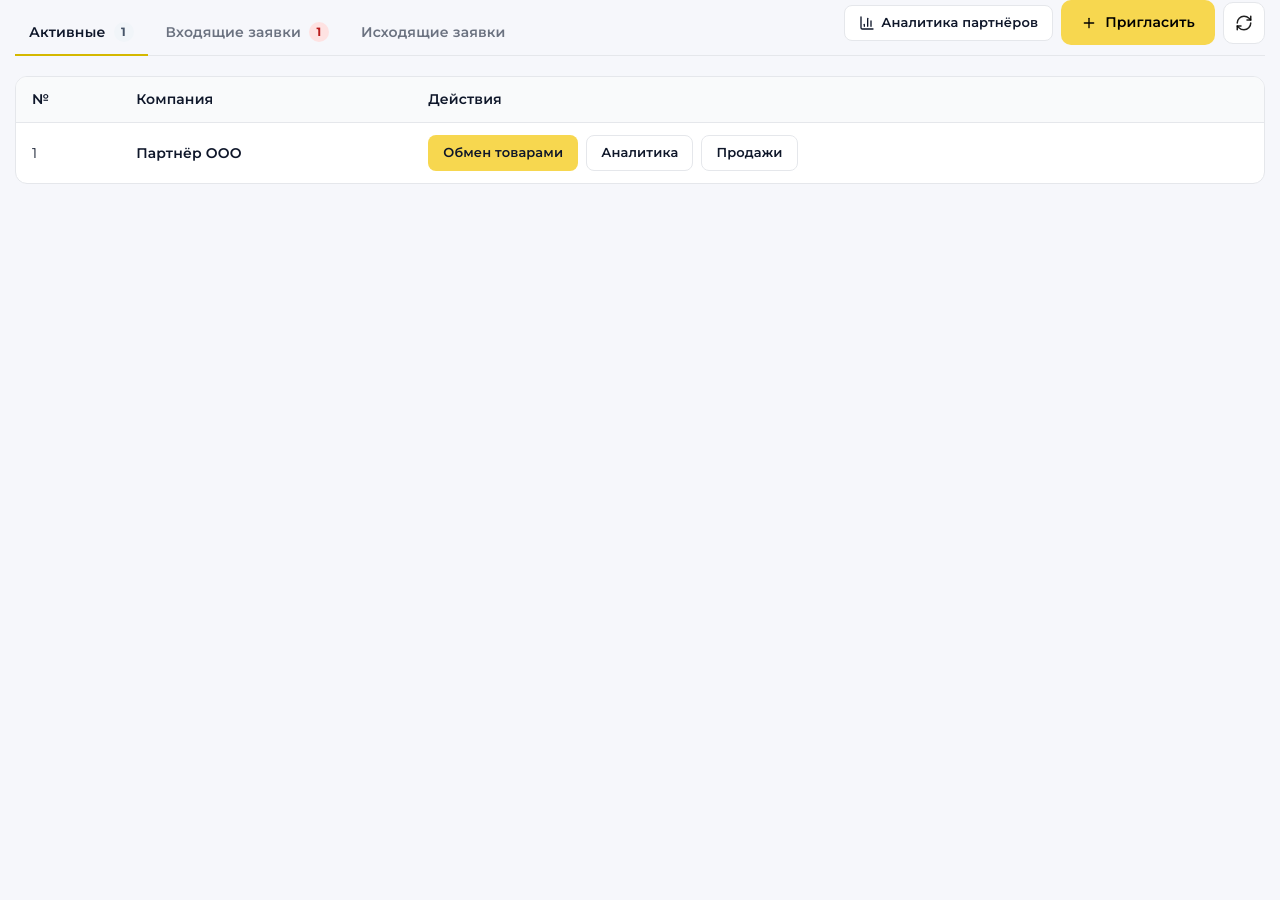
Test: StockPartnershipPanel › приглашение: своя компания, партнёры и открытые заявки — без кнопки «Отправить»
Expected: the text "Партнёр ООО" is shown, left=120, top=122, right=412, bottom=183
Click the button "Пригласить": (1138,22) left=1061, top=0, right=1215, bottom=45
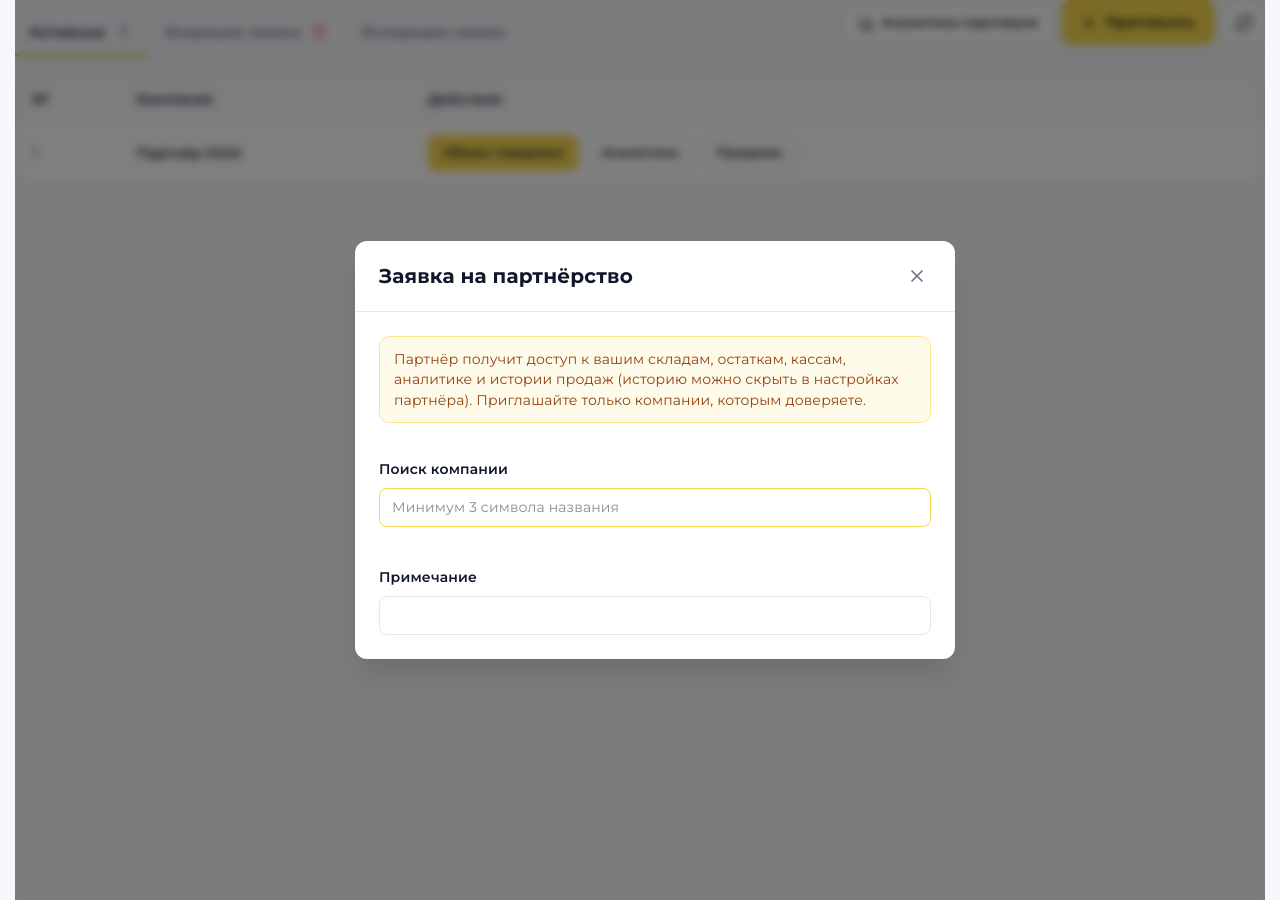
In the field labelled "Поиск компании": (655,507) left=379, top=488, right=931, bottom=527, type "ООО"
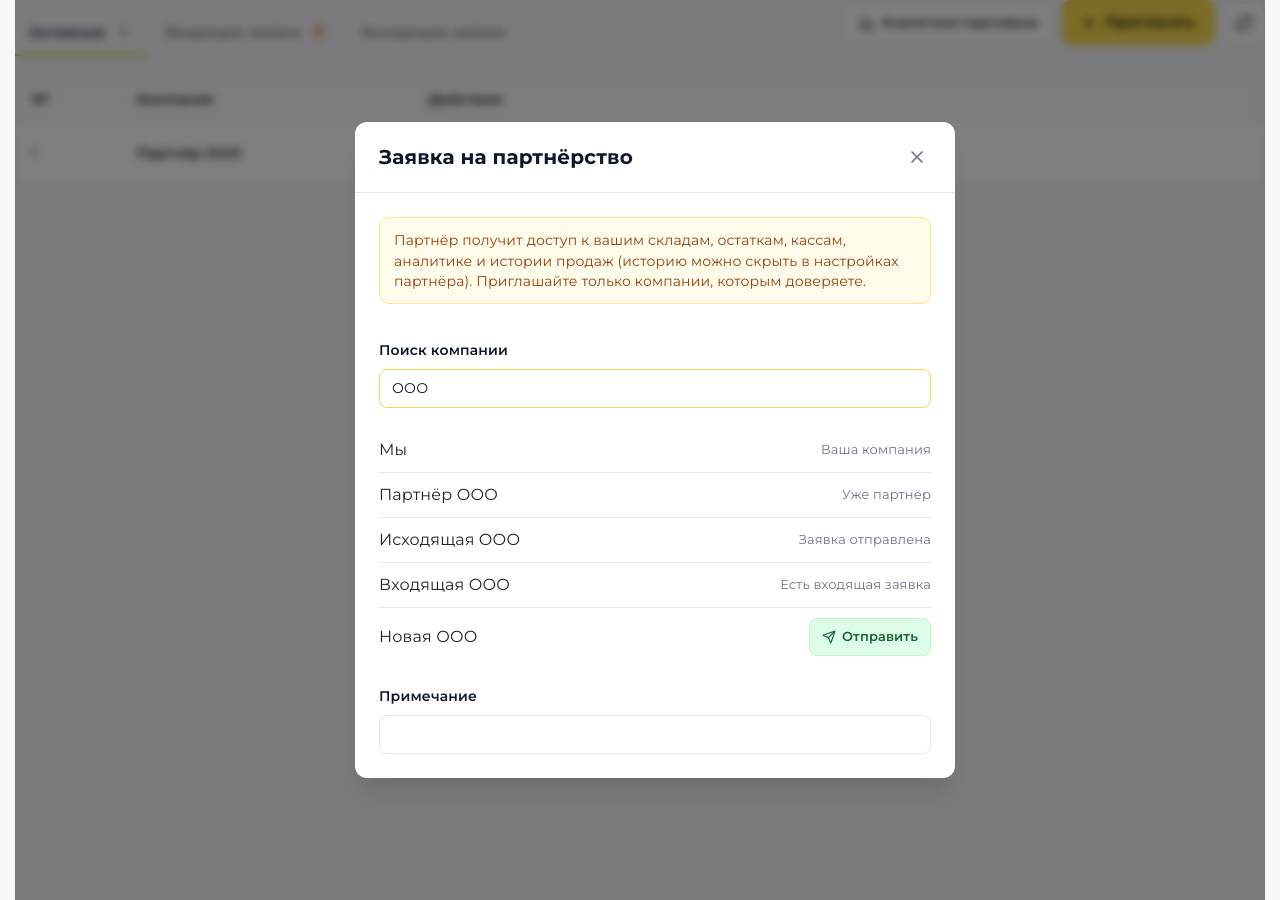
Expected: the text "Новая ООО" is shown, left=379, top=625, right=478, bottom=649
Expected: the text "Ваша компания" is shown, left=821, top=440, right=931, bottom=460
Expected: the text "Уже партнёр" is shown, left=842, top=485, right=931, bottom=505
